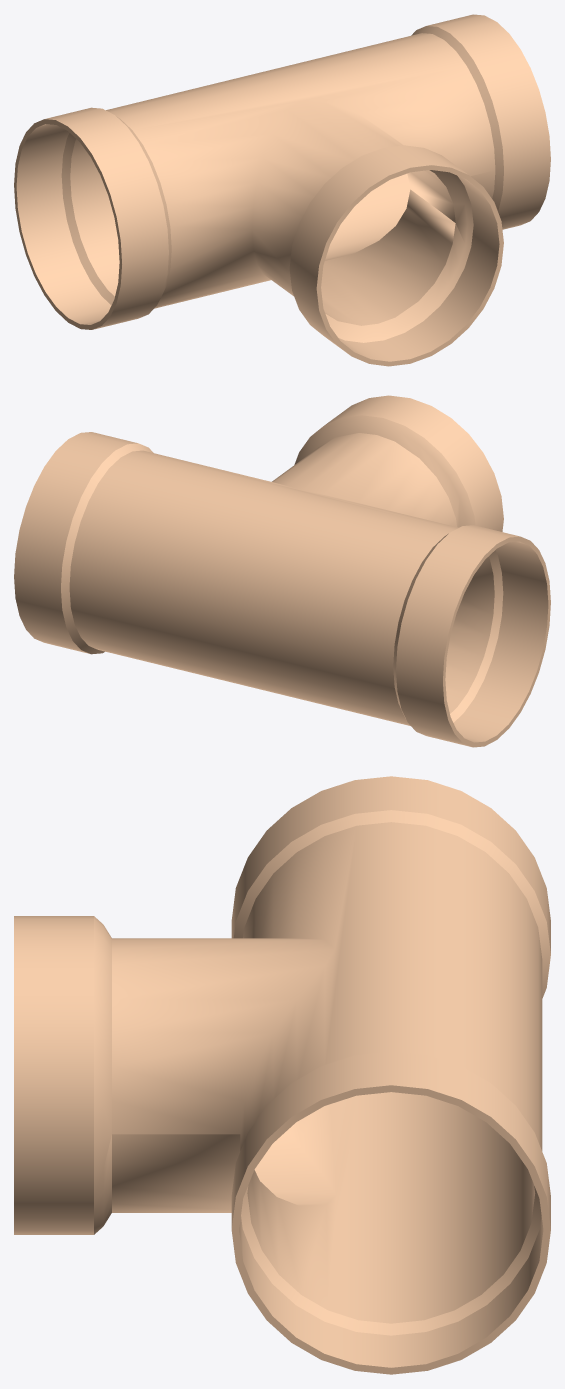
3 renders of one model, top to bottom at view 1: azimuth 30°, elevation 25°; view 2: azimuth 150°, elevation 25°; view 3: azimuth 270°, elevation 25°, orthographic. The views are drawn at different scales.
Parts seen in each view (by area): view 1: T?; view 2: T?; view 3: T?.
Part boxes in pixels (bbox=[...]): T?: bbox=[14, 14, 550, 366]; T?: bbox=[14, 395, 550, 747]; T?: bbox=[14, 776, 550, 1374].
Size of the model in its own units: 4843 by 2116 by 3558.
